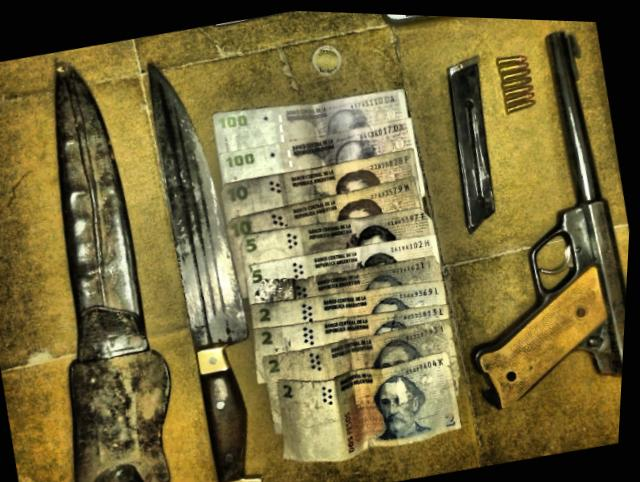knife: (113, 38, 304, 482)
